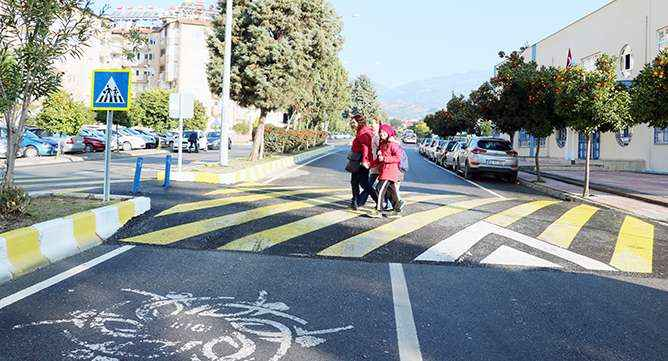yaya: (326, 108, 417, 218)
yaya_gecidi: (93, 70, 132, 108)
